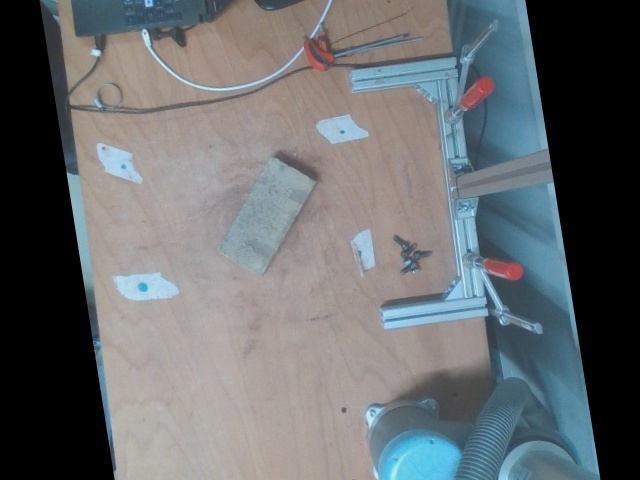brick: (220, 156, 312, 272)
